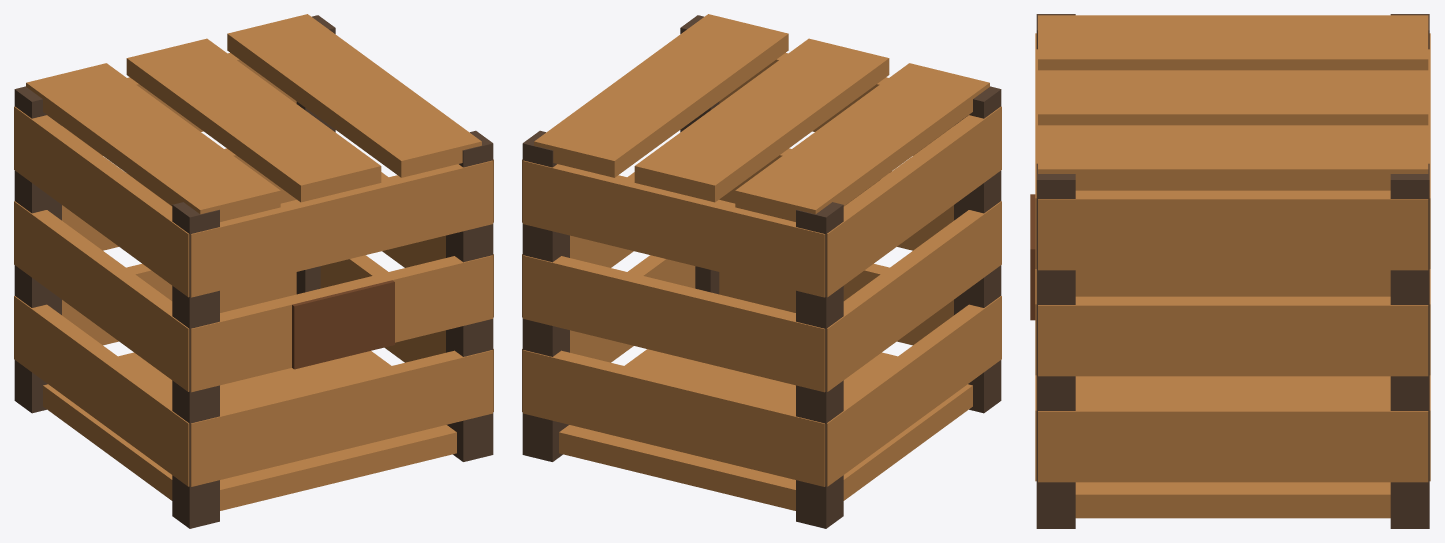
The model's file is CatCafe_Alley_Crate.glb.
3 renders of one model, left to right at view 1: azimuth 30°, elevation 25°; view 2: azimuth 150°, elevation 25°; view 3: azimuth 270°, elevation 25°, orthographic. The views are drawn at different scales.
Visible parts, largest first — view 1: CatCafe_Alley_Crate; view 2: CatCafe_Alley_Crate; view 3: CatCafe_Alley_Crate.
Boxes of the visible parts, x1,y1,x2,y2 form: CatCafe_Alley_Crate: (14, 14, 493, 528); CatCafe_Alley_Crate: (522, 14, 1001, 528); CatCafe_Alley_Crate: (1030, 14, 1430, 528).
Bounding box in the file's own units: 1.52 × 1.5 × 1.54.
Materials: 1 (1 with a texture image).
